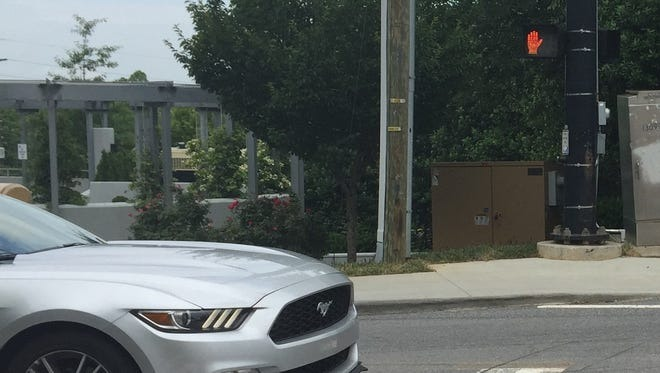pedestrian_stop: (523, 23, 562, 58)
